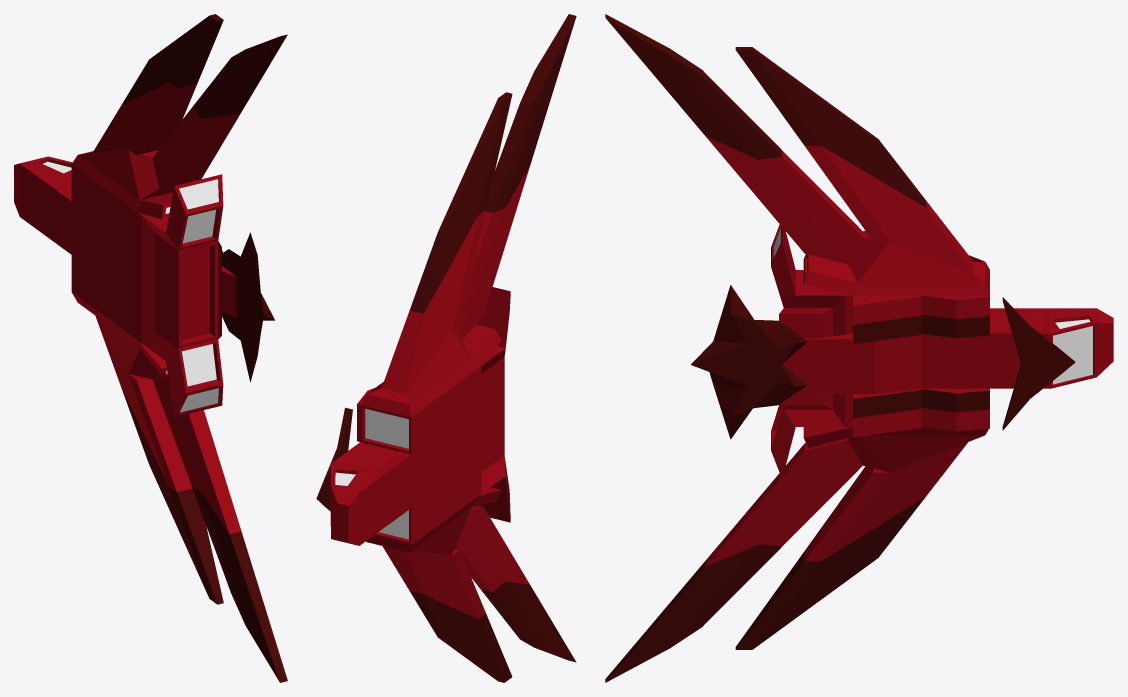
File: inimigo1.fbx
The picture shows the model from 3 angles, left to right: view 1: azimuth 30°, elevation 25°; view 2: azimuth 150°, elevation 25°; view 3: azimuth 270°, elevation 25°; orthographic projection. The views are drawn at different scales.
Visible parts, largest first — view 1: Jogador.003; view 2: Jogador.003; view 3: Jogador.003.
Part boxes in pixels (x1,y1,x2,y2): Jogador.003: (14, 14, 287, 682); Jogador.003: (316, 14, 576, 682); Jogador.003: (605, 14, 1113, 682).
Bounding box in the file's own units: 4033 × 2792 × 468.
